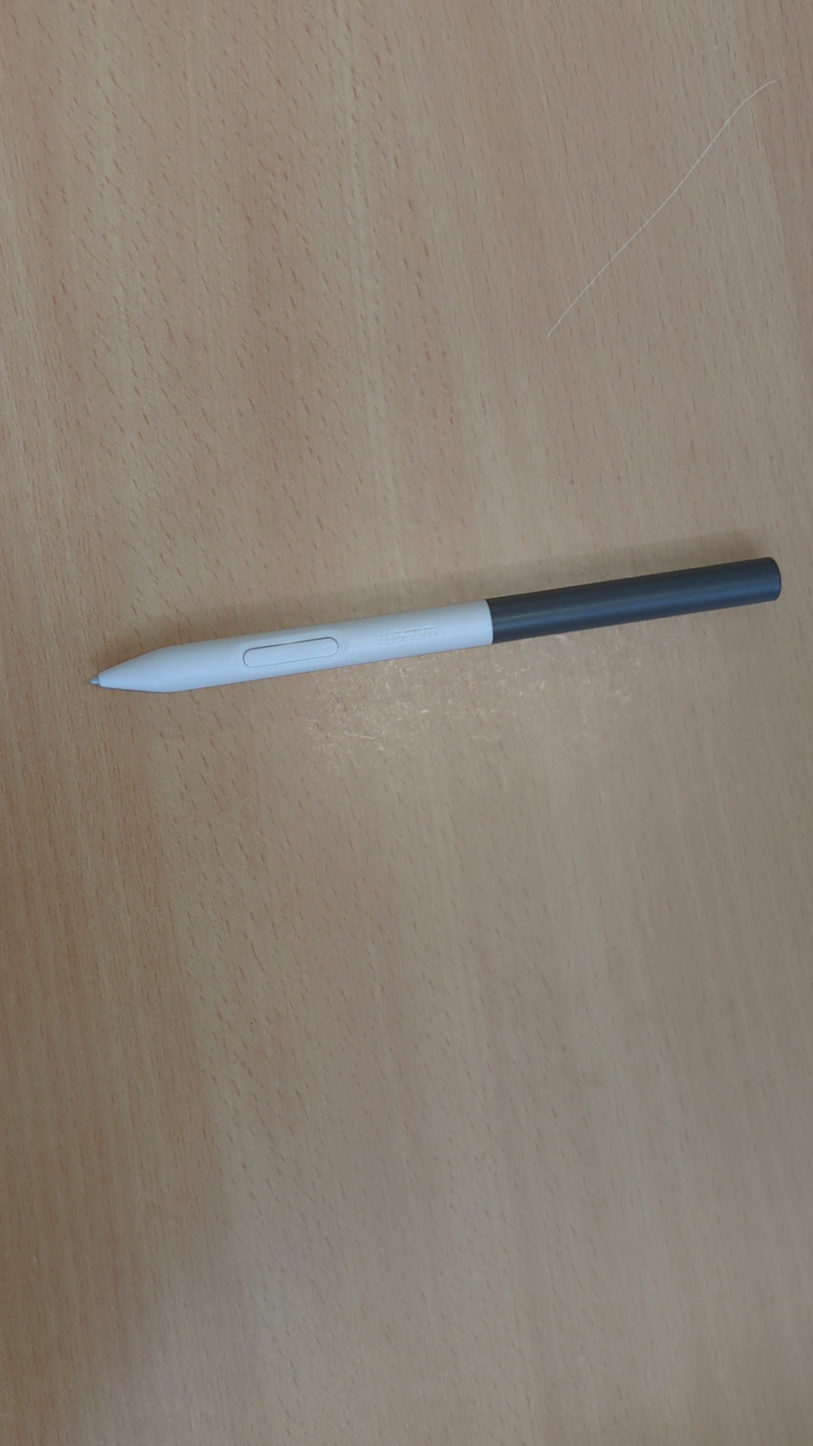pen: (87, 550, 786, 697)
tip: (87, 664, 120, 693)
